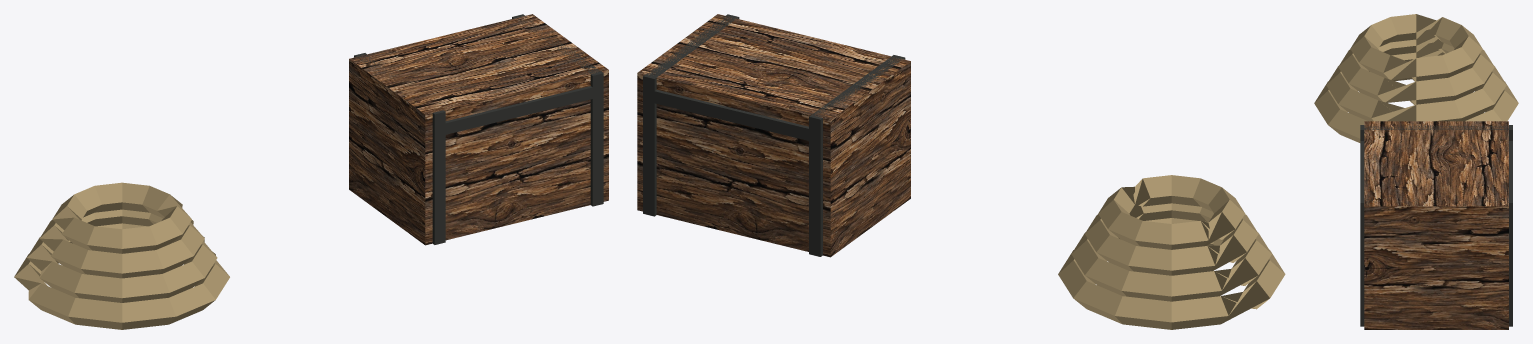
File: lake02-props.glb
3 renders of one model, left to right at view 1: azimuth 30°, elevation 25°; view 2: azimuth 150°, elevation 25°; view 3: azimuth 270°, elevation 25°, orthographic. The views are drawn at different scales.
Visible parts, largest first — view 1: chest, rope_coil, chest_iron; view 2: chest, rope_coil, chest_iron; view 3: chest, rope_coil, chest_iron.
Part boxes in pixels (left/top/right/bottom): chest: left=349, top=14, right=608, bottom=245; rope_coil: left=14, top=182, right=229, bottom=329; chest_iron: left=354, top=14, right=603, bottom=244; chest: left=637, top=14, right=910, bottom=257; rope_coil: left=1058, top=175, right=1285, bottom=329; chest_iron: left=643, top=14, right=905, bottom=256; chest: left=1364, top=121, right=1508, bottom=329; rope_coil: left=1314, top=14, right=1518, bottom=142; chest_iron: left=1360, top=125, right=1512, bottom=326.
Bounding box in the file's own units: 1.5 × 0.34 × 0.51.
3 materials, 1 textured.
